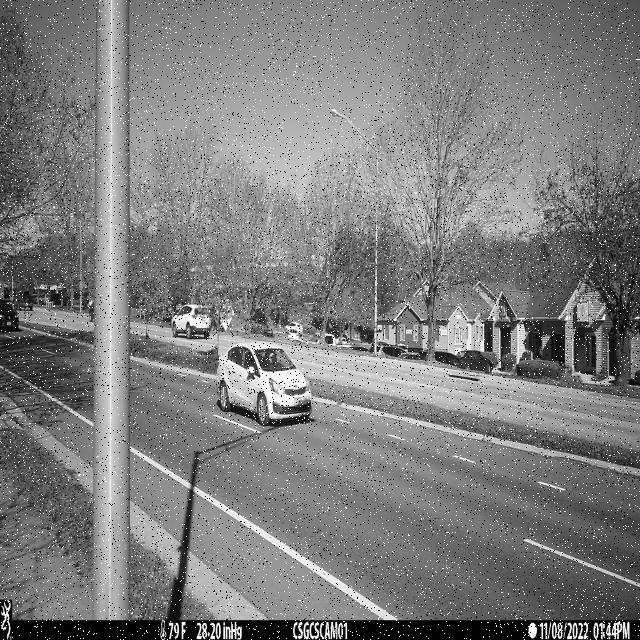Sedan: (218, 343, 314, 426)
